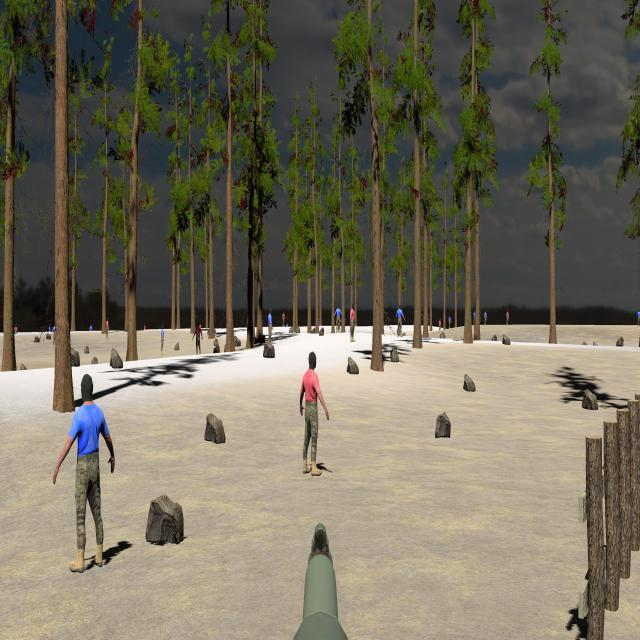Human: (52, 372, 115, 573), (300, 352, 329, 477)
